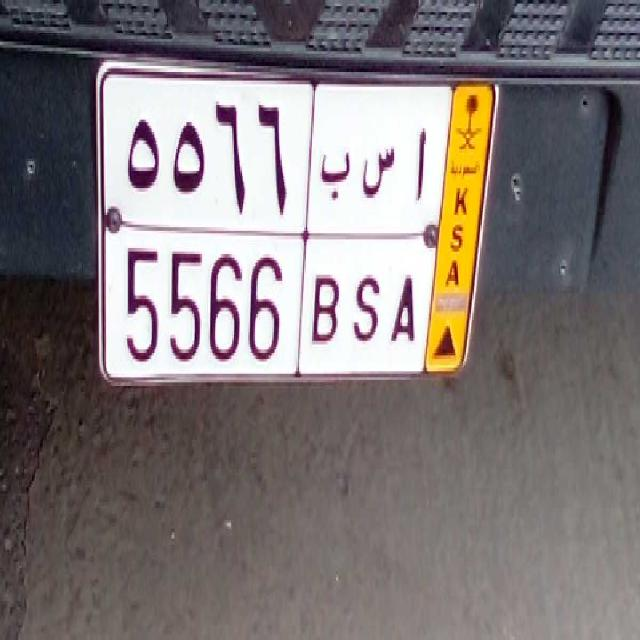license_plate: (115, 218, 426, 374)
